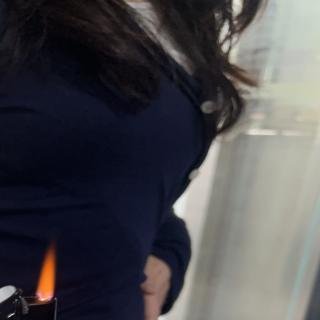fire: (34, 250, 56, 300)
